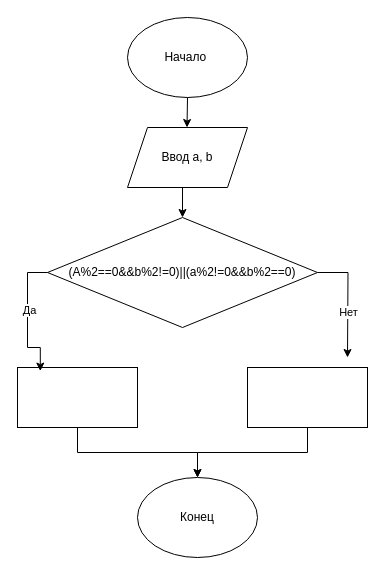
Image size: 385x575. Some labels were removed from this diagram. The shapes that lost their labels are listed below. From the top down, each one's centre as x and y in pixels, then its label:
point 77,397: Вывод Кофе-машина включена
point 307,397: Вывод Кофе-машина выключена
